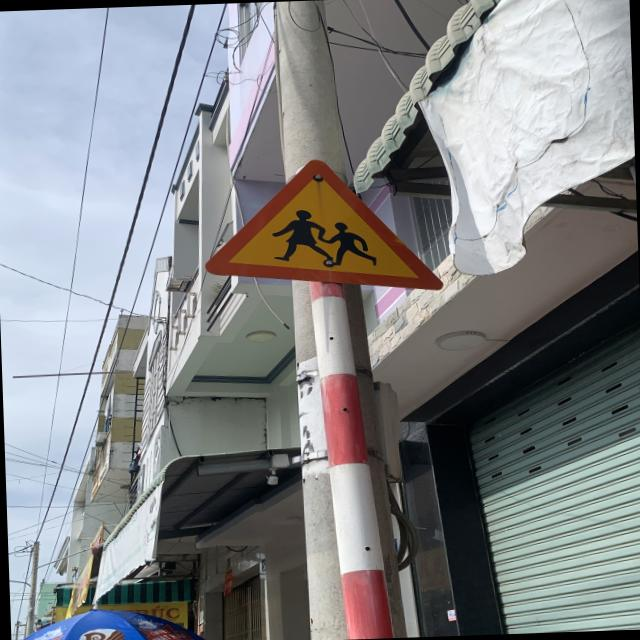Vong_Xuyen: (200, 154, 440, 299)
